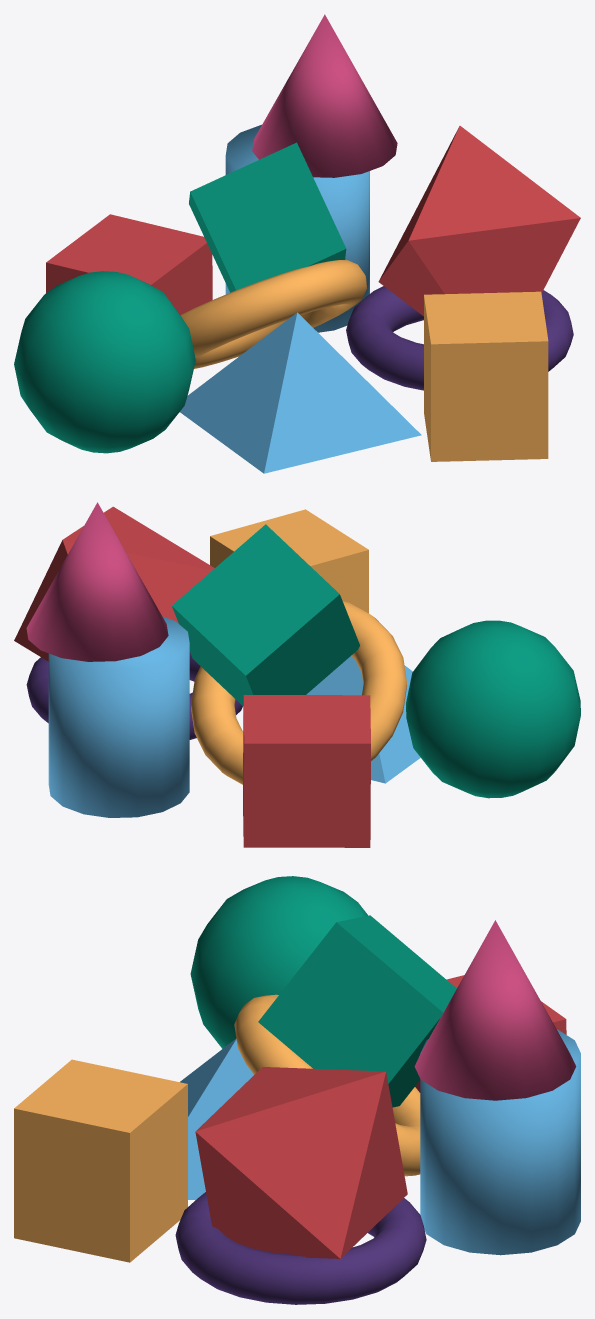
File: pile_small_3.glb
The picture shows the model from 3 angles, top to bottom: view 1: azimuth 30°, elevation 25°; view 2: azimuth 150°, elevation 25°; view 3: azimuth 270°, elevation 25°; orthographic projection. The views are drawn at different scales.
Parts seen in each view (by area): view 1: pile_small_3; view 2: pile_small_3; view 3: pile_small_3.
Part boxes in pixels (<box>): pile_small_3: <box>14,14,580,473</box>; pile_small_3: <box>14,502,580,847</box>; pile_small_3: <box>14,876,580,1304</box>.
Size of the model in its own units: 6.93 by 3.47 by 5.64.
